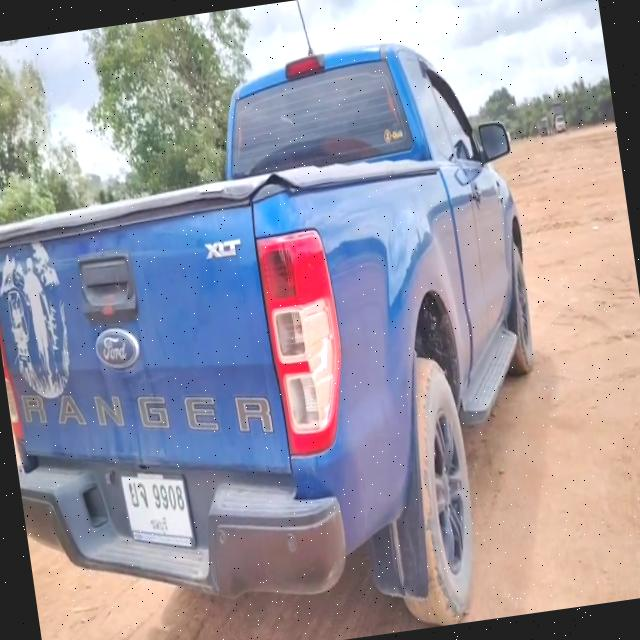Digit: (151, 477, 186, 513)
Licenseplate: (118, 471, 196, 548)
Provincename: (149, 512, 168, 537)
Thaichar: (128, 478, 148, 510)
